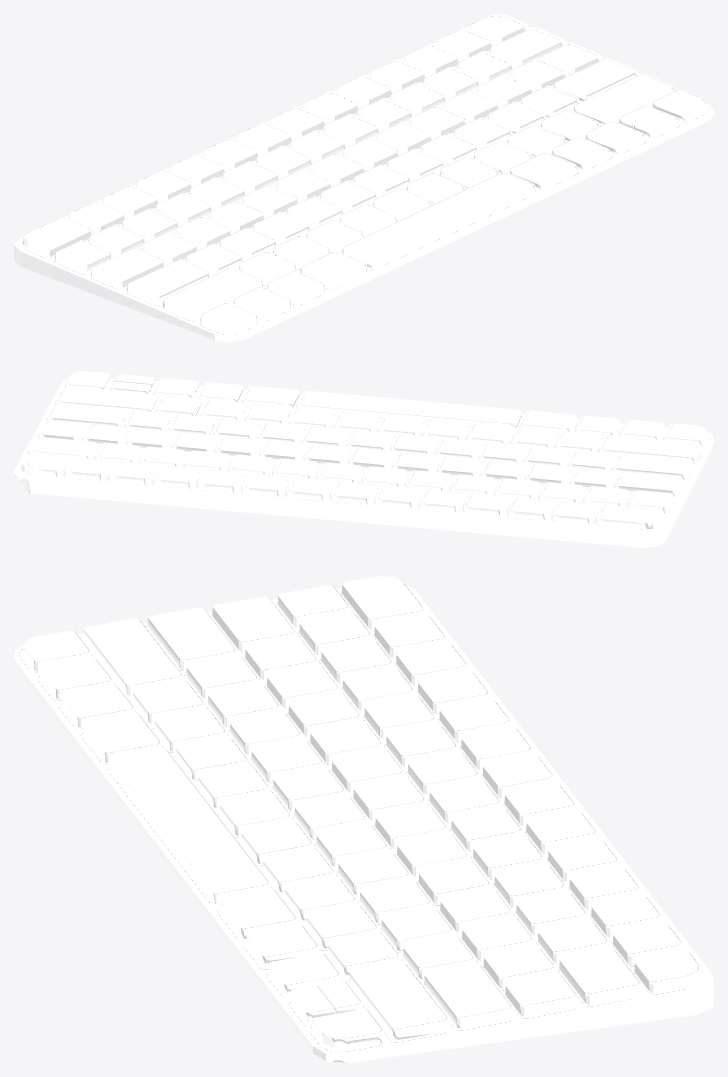
The model's file is keyboard-transformed.glb.
3 renders of one model, top to bottom at view 1: azimuth 30°, elevation 25°; view 2: azimuth 150°, elevation 25°; view 3: azimuth 270°, elevation 25°, orthographic. The views are drawn at different scales.
Visible parts, largest first — view 1: keyboard; view 2: keyboard; view 3: keyboard.
Part boxes in pixels (x1,y1,x2,y2): keyboard: [14, 14, 713, 342]; keyboard: [14, 371, 713, 547]; keyboard: [14, 576, 713, 1062].
Size of the model in its own units: 1.75 by 0.0575 by 1.13.
Materials: 1 (1 with a texture image).
